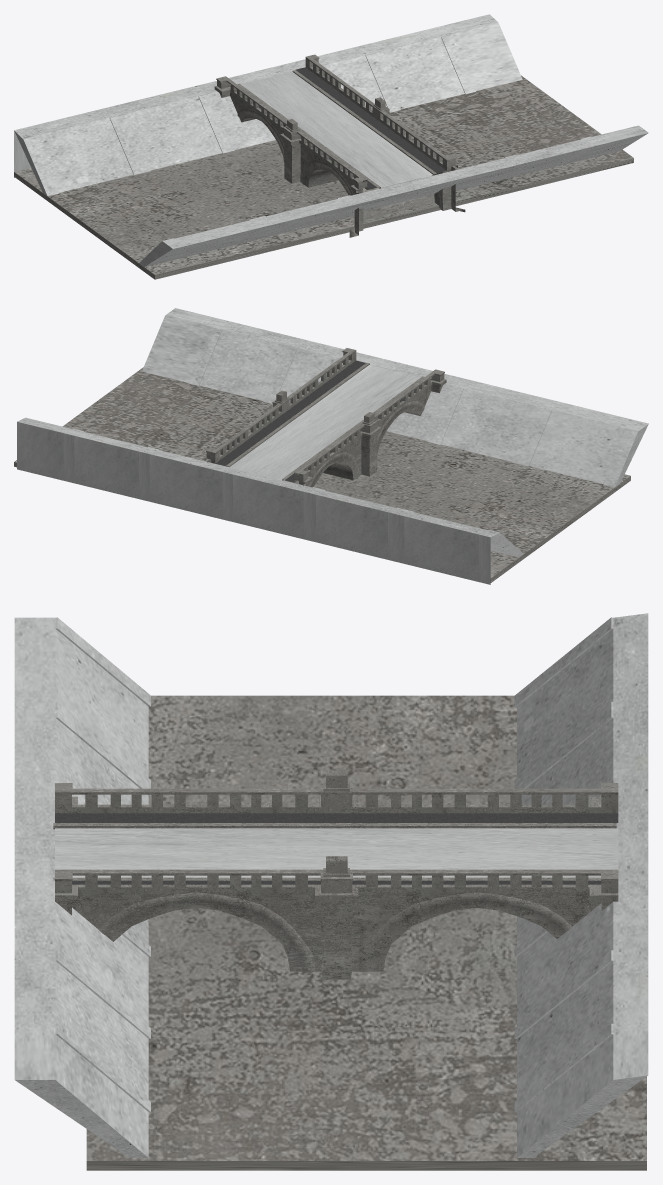
Rendered from Bridge__.fbx.
3 renders of one model, top to bottom at view 1: azimuth 30°, elevation 25°; view 2: azimuth 150°, elevation 25°; view 3: azimuth 270°, elevation 25°, orthographic. The views are drawn at different scales.
Visible parts, largest first — view 1: pCube1, pasted__ground., Box002, Road, Sidewalk, foothold, houvast, houvast001; view 2: pCube1, pasted__ground., Road, Box002, Sidewalk, foothold, houvast, houvast001; view 3: pasted__ground., pCube1, Box002, Road, Sidewalk, foothold, houvast, houvast001.
Boxes of the visible parts, x1,y1,x2,y2 form: pCube1: (14, 14, 648, 266); pasted__ground.: (14, 75, 633, 279); Box002: (214, 58, 457, 234); Road: (240, 71, 433, 187); Sidewalk: (230, 67, 446, 189); foothold: (237, 70, 436, 188); houvast: (305, 54, 455, 161); houvast001: (216, 76, 367, 182); pCube1: (17, 308, 648, 584); pasted__ground.: (14, 367, 630, 582); Road: (229, 365, 420, 480); Box002: (204, 351, 446, 487); Sidewalk: (216, 360, 431, 482); foothold: (226, 363, 424, 480); houvast: (206, 348, 356, 453); houvast001: (294, 369, 444, 475); pasted__ground.: (86, 695, 646, 1170); pCube1: (14, 613, 648, 1157); Box002: (55, 770, 618, 979); Road: (55, 828, 618, 877); Sidewalk: (55, 813, 618, 884); foothold: (53, 823, 616, 880); houvast: (55, 869, 618, 881); houvast001: (55, 783, 618, 794).
Bounding box in the file's own units: 262 × 33.96 × 150.
Materials: 3 (3 with a texture image).
